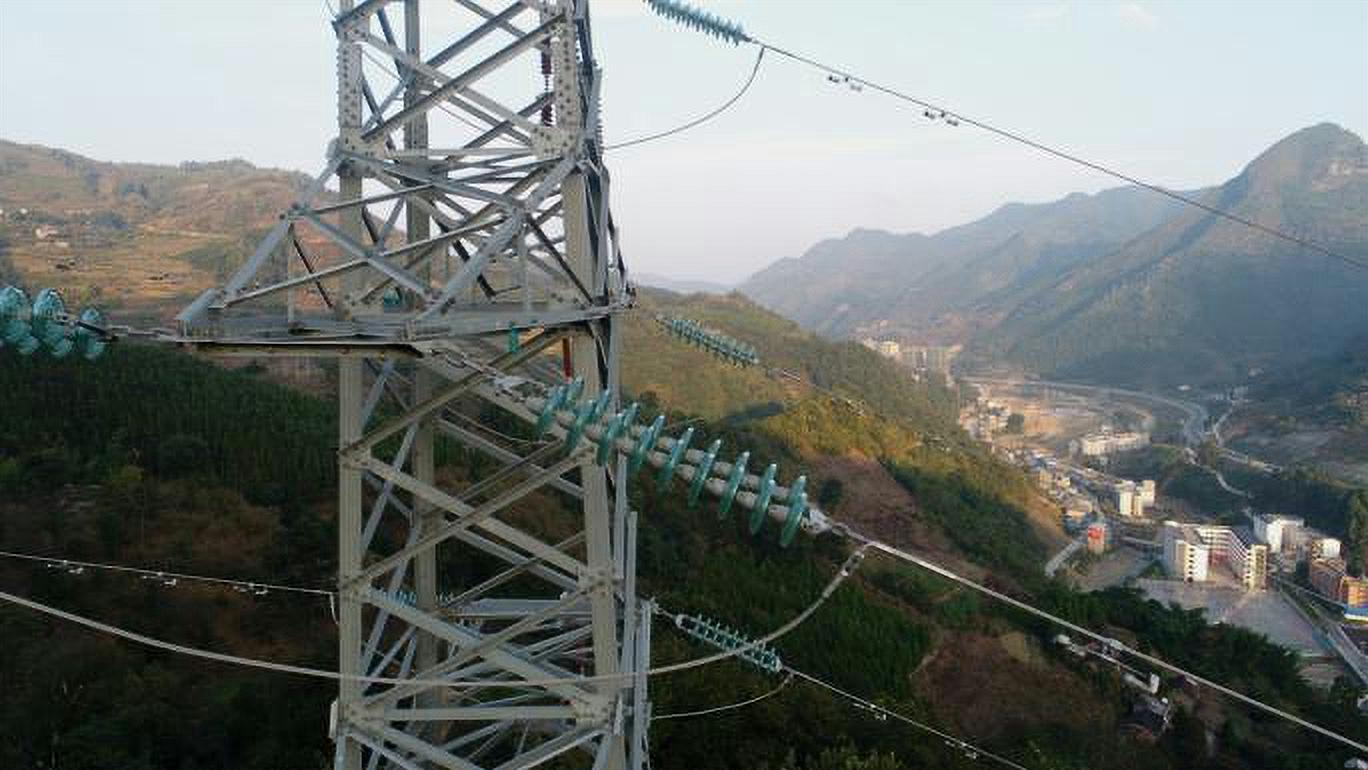insulator: (530, 371, 812, 552), (1, 277, 116, 371), (683, 608, 782, 677), (661, 312, 763, 373), (640, 1, 750, 53)
